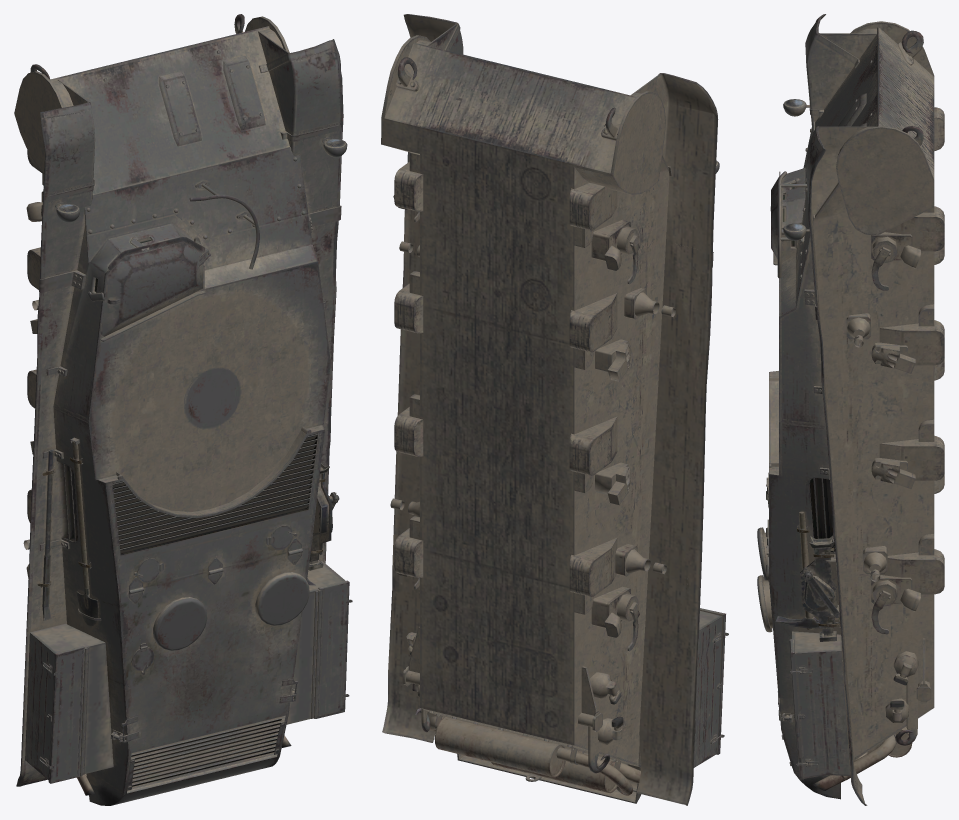
The model's file is Hull.glb.
The picture shows the model from 3 angles, left to right: view 1: azimuth 30°, elevation 25°; view 2: azimuth 150°, elevation 25°; view 3: azimuth 270°, elevation 25°; orthographic projection. The views are drawn at different scales.
Parts seen in each view (by area): view 1: set_0_group_0; view 2: set_0_group_0; view 3: set_0_group_0.
Part boxes in pixels (x1,y1,x2,y2): set_0_group_0: (14,14,352,805); set_0_group_0: (381,14,728,805); set_0_group_0: (757,14,944,805).
Size of the model in its own units: 2.1 by 4.75 by 1.18.
Materials: 1 (1 with a texture image).
